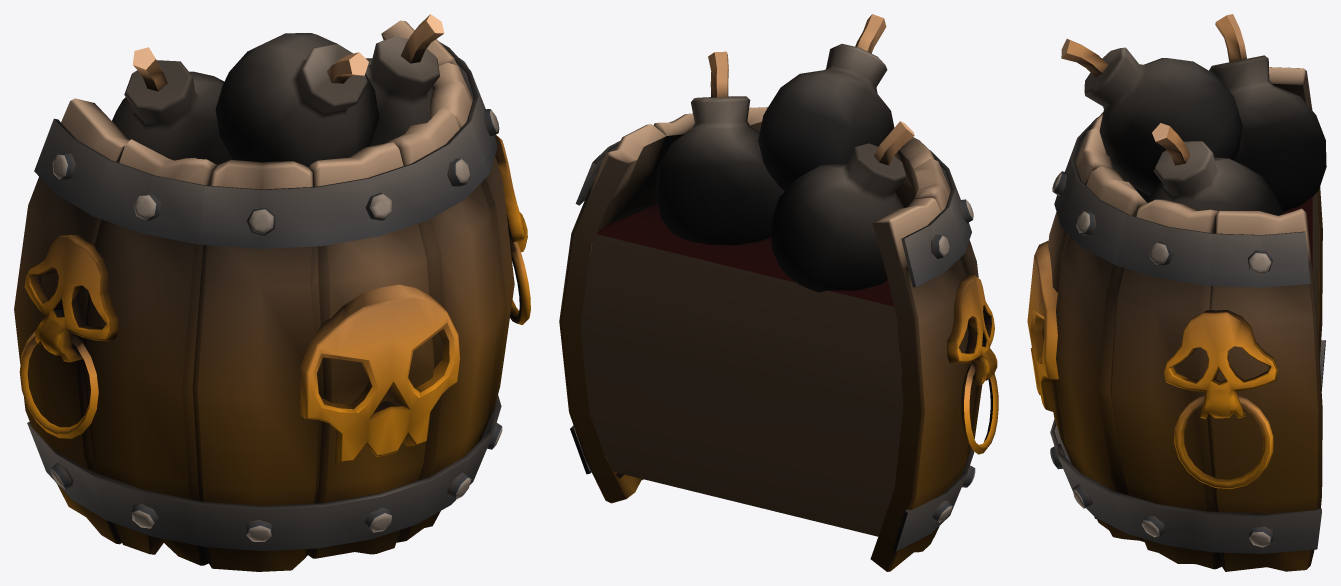
Rendered from Back_Bomb_Barrel.gltf.
3 views of the same model, side by side, from view 1: azimuth 30°, elevation 25°; view 2: azimuth 150°, elevation 25°; view 3: azimuth 270°, elevation 25° (orthographic). The views are drawn at different scales.
Visible parts, largest first — view 1: Back_Bomb_Barrel; view 2: Back_Bomb_Barrel; view 3: Back_Bomb_Barrel.
Boxes of the visible parts, bbox=[...] form: Back_Bomb_Barrel: bbox=[14, 14, 530, 571]; Back_Bomb_Barrel: bbox=[559, 14, 998, 571]; Back_Bomb_Barrel: bbox=[1027, 14, 1326, 571].
Size of the model in its own units: 0.7946 by 0.8244 by 0.4854.
2 materials, 2 textured.
